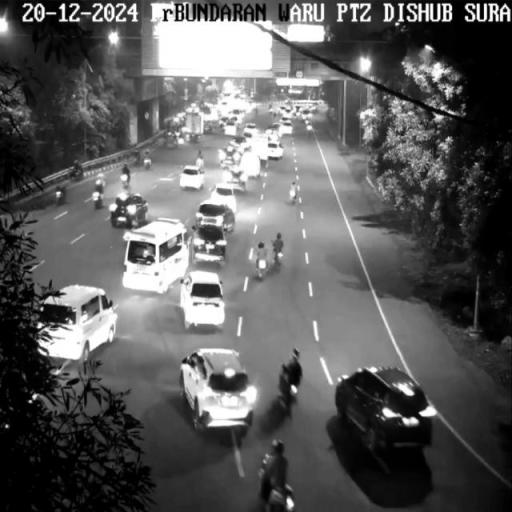car: (337, 367, 434, 451), (179, 348, 256, 435), (40, 285, 119, 358), (177, 271, 229, 327)
motorcycle: (257, 456, 307, 510), (278, 360, 304, 414)
